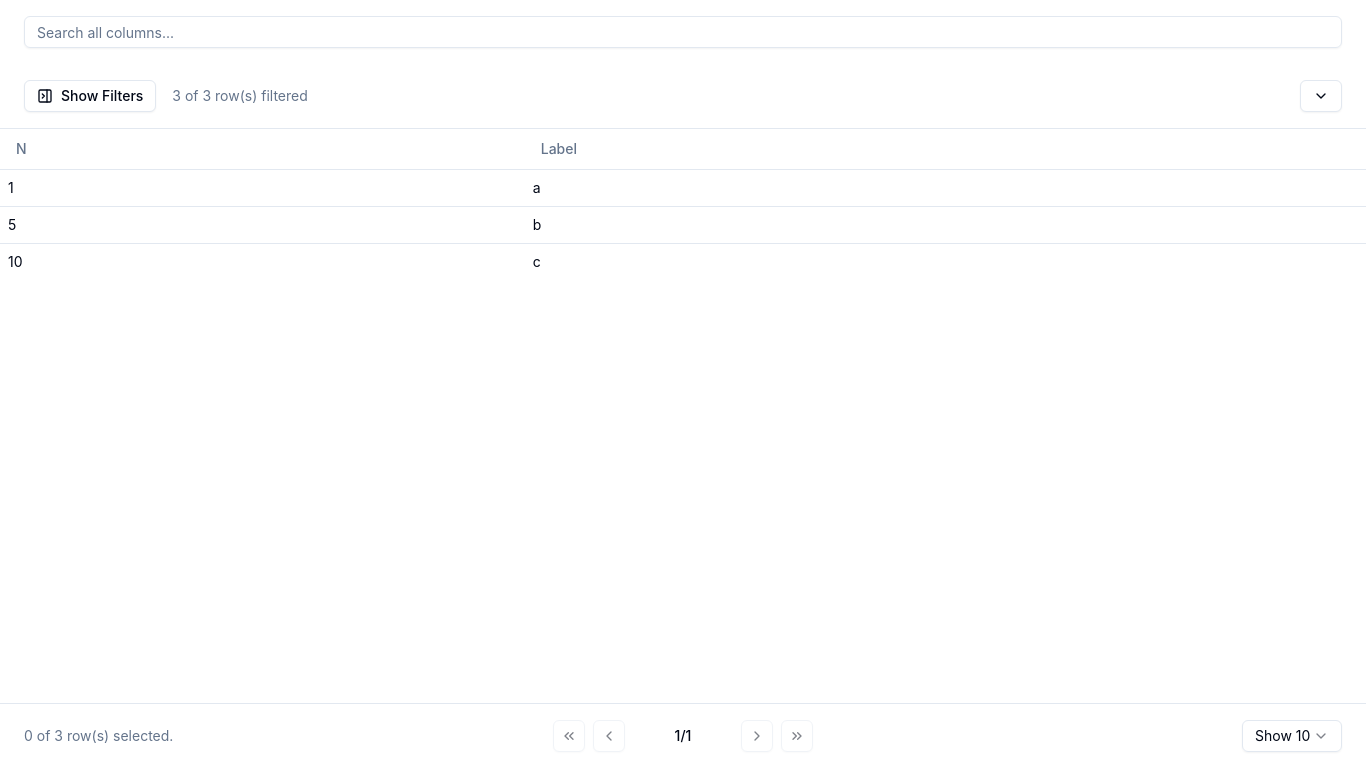
Test case: DataGrid numeric range filters › filters with min-only, max-only, both, and clearing
This screenshot has width=1366, height=768.
Click the button "Show Filters": (90, 96) x1=24 y1=80 x2=156 y2=112
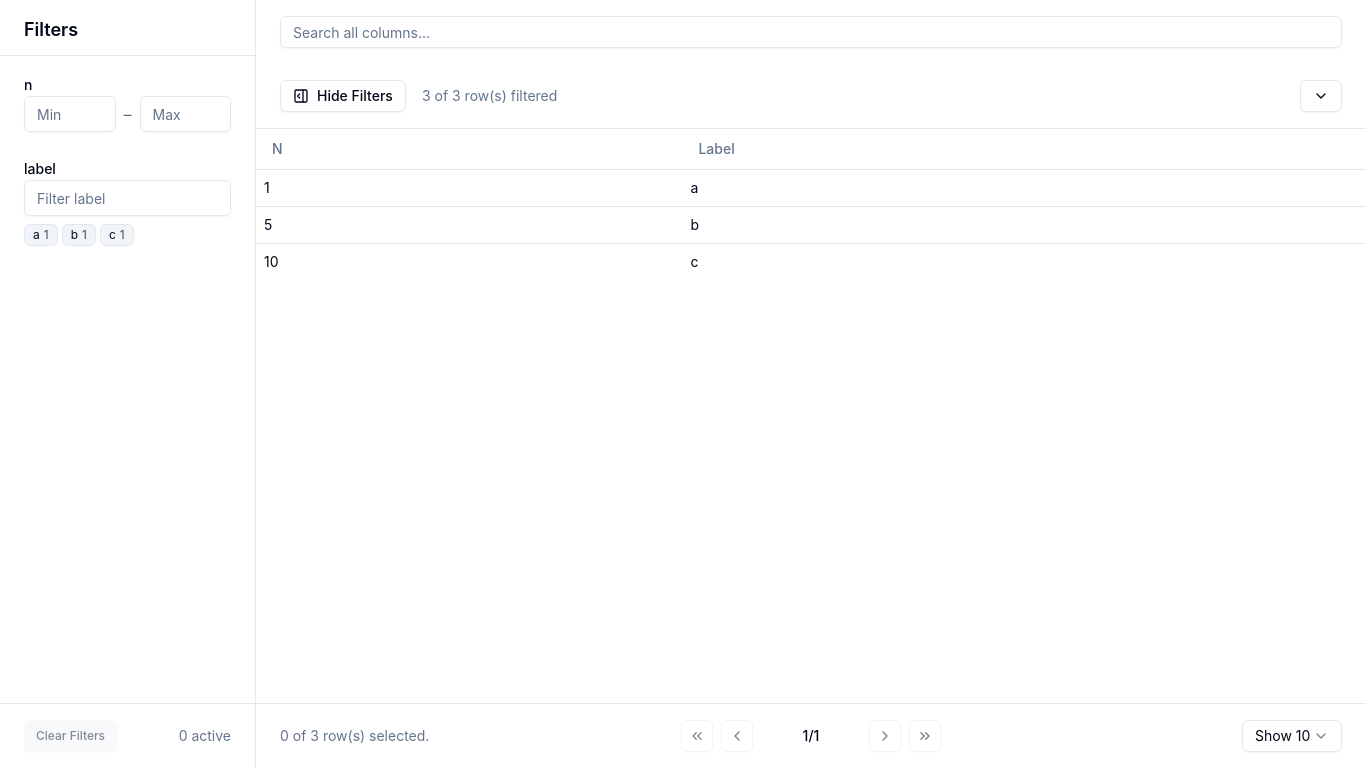
In the number field labelled "n min": (70, 114) x1=24 y1=96 x2=116 y2=132, type "5"
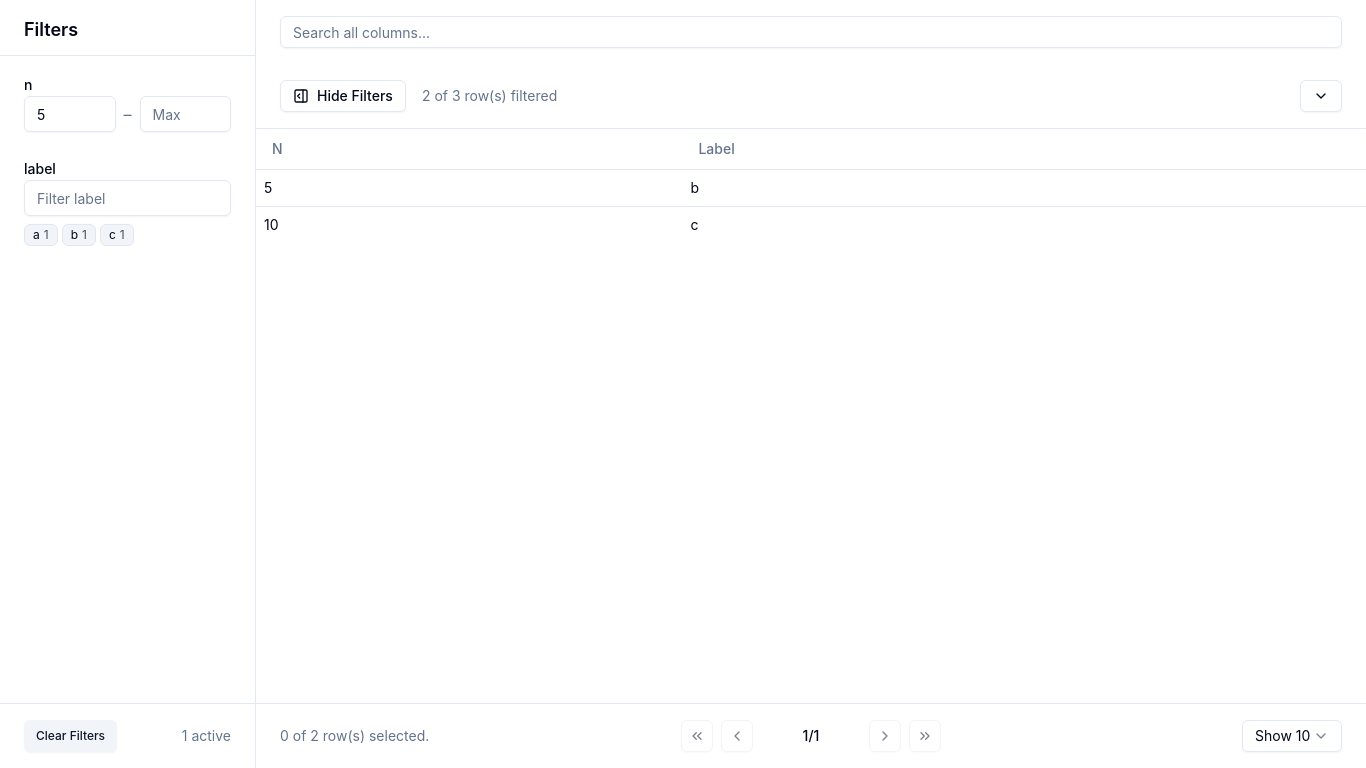
Result: the text "2 of 3 row(s) filtered" is shown at x1=422 y1=86 x2=557 y2=106
// both bounds 5..9 should leave one row (5)
In the number field named "n max": (185, 114) x1=140 y1=96 x2=231 y2=132, type "9"
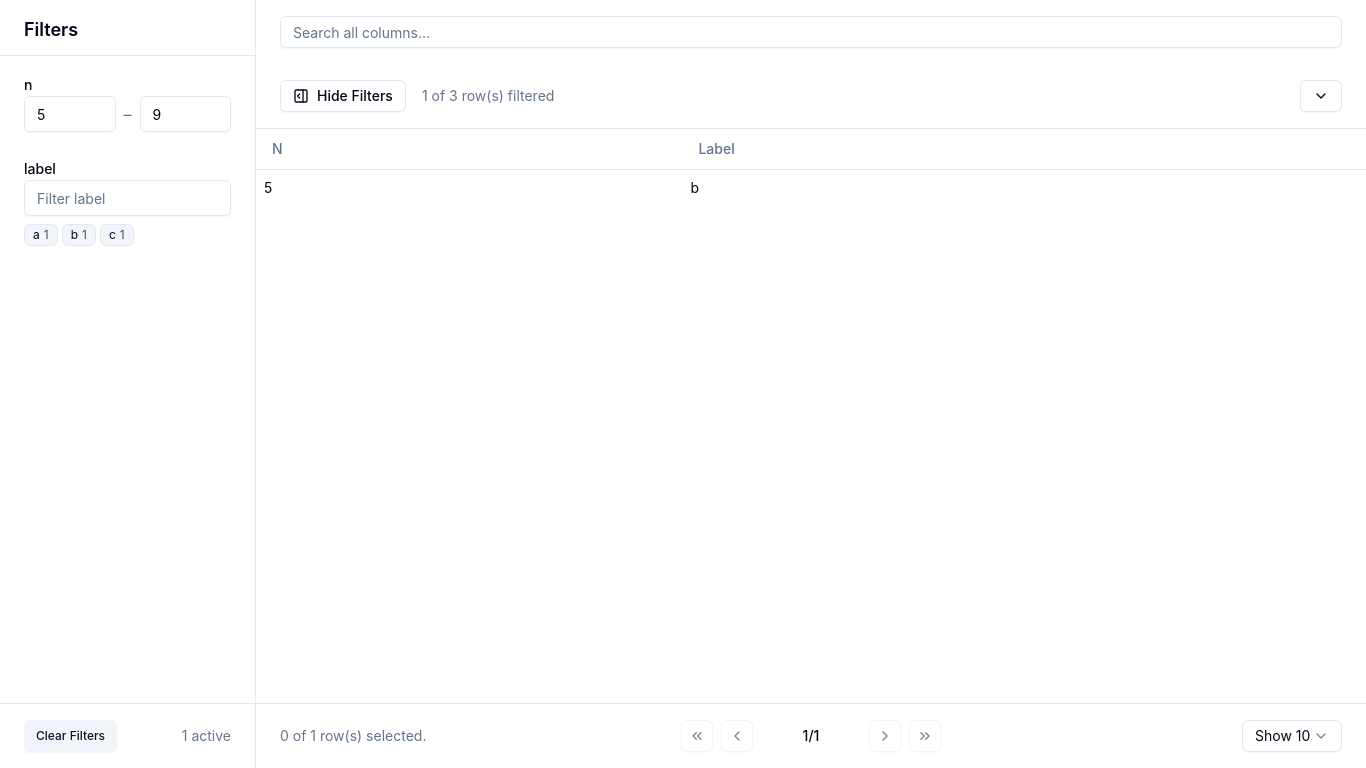
Result: the text "1 of 3 row(s) filtered" is shown at x1=422 y1=86 x2=554 y2=106
Clear the number field named "n min": (70, 114) x1=24 y1=96 x2=116 y2=132
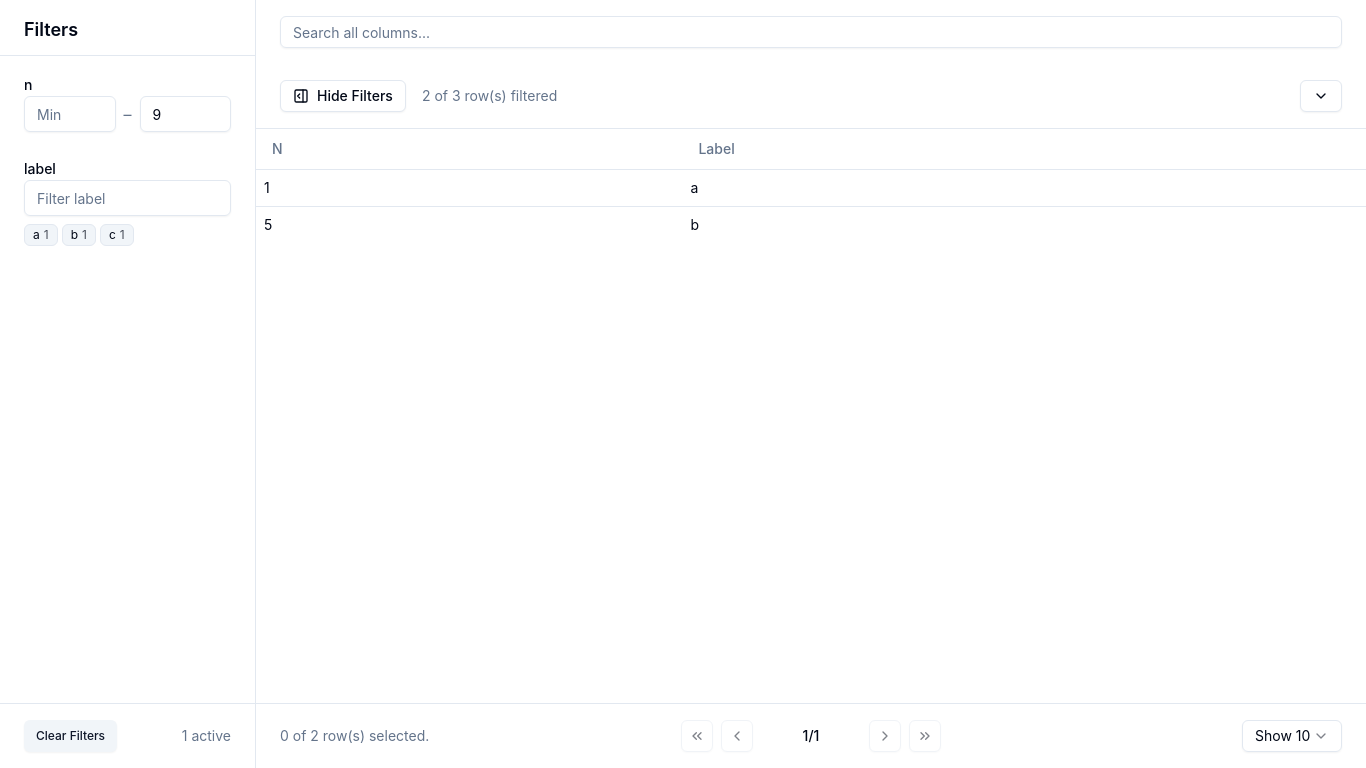
Result: the text "2 of 3 row(s) filtered" is shown at x1=422 y1=86 x2=557 y2=106
Clear the number field named "n max": (185, 114) x1=140 y1=96 x2=231 y2=132
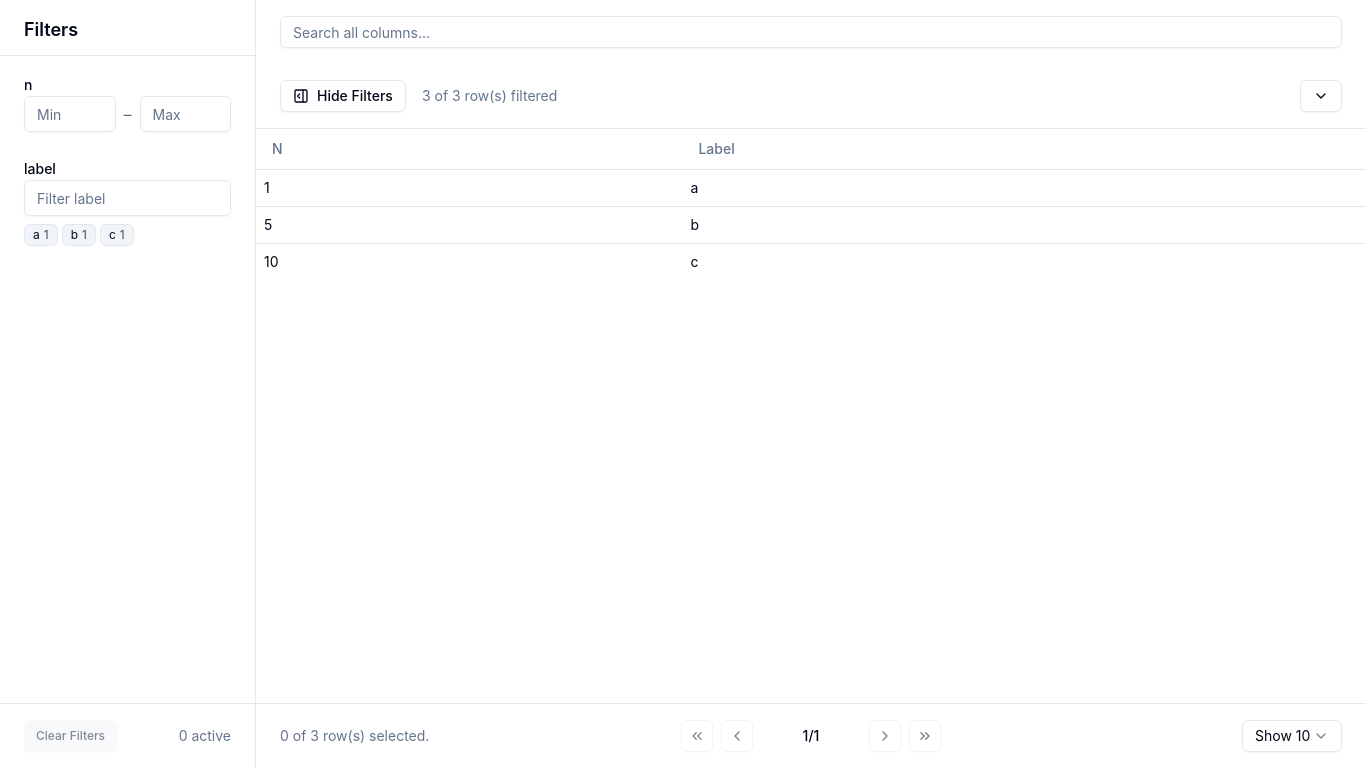
Result: the text "3 of 3 row(s) filtered" is shown at x1=422 y1=86 x2=557 y2=106
